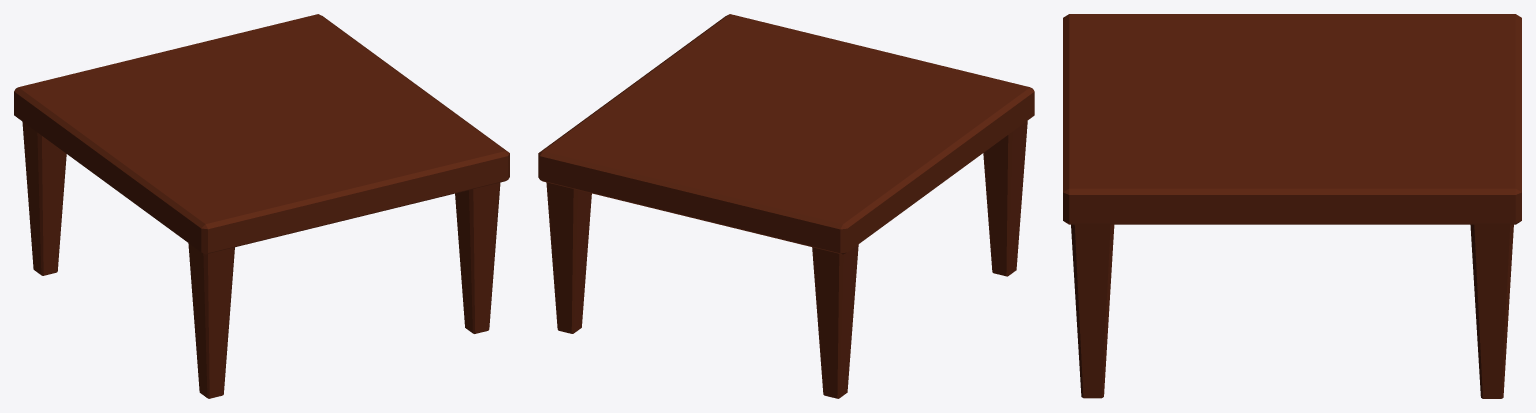
The model's file is hh_table_small.glb.
3 renders of one model, left to right at view 1: azimuth 30°, elevation 25°; view 2: azimuth 150°, elevation 25°; view 3: azimuth 270°, elevation 25°, orthographic. The views are drawn at different scales.
Visible parts, largest first — view 1: Table_B; view 2: Table_B; view 3: Table_B.
Part boxes in pixels (x1=…): Table_B: x1=14, y1=14, x2=509, y2=398; Table_B: x1=538, y1=14, x2=1034, y2=398; Table_B: x1=1063, y1=14, x2=1521, y2=398.
Bounding box in the file's own units: 0.6598 × 0.3704 × 0.7116.
